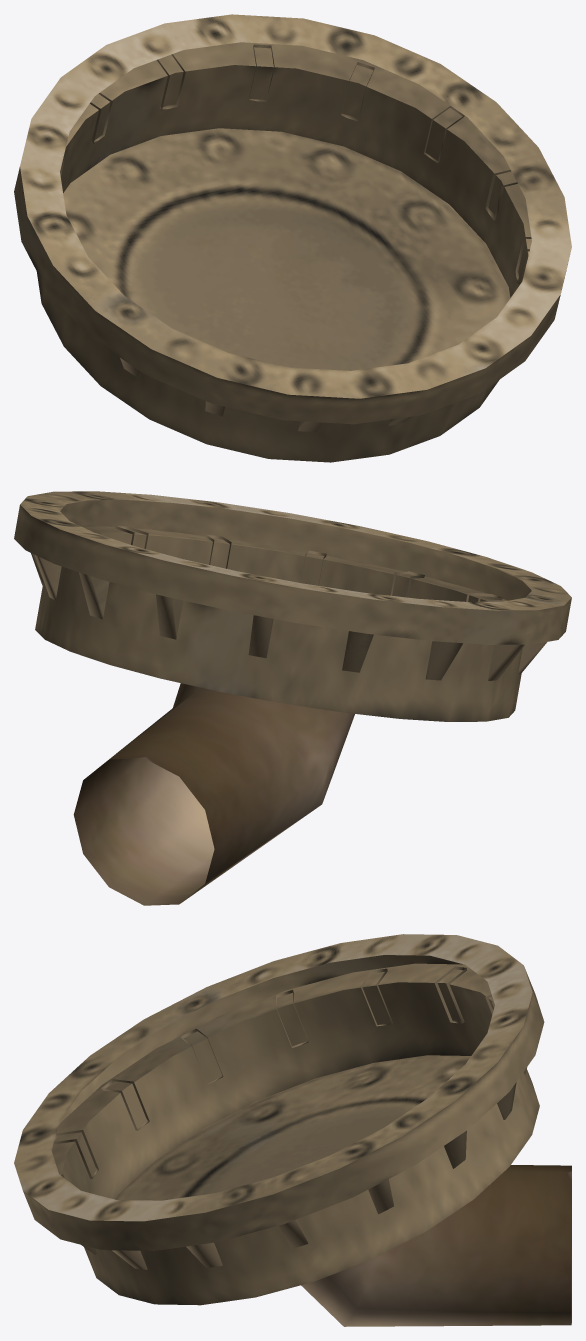
Rendered from Body_SteerLeftFront.dae.
3 views of the same model, one above another, from view 1: azimuth 30°, elevation 25°; view 2: azimuth 150°, elevation 25°; view 3: azimuth 270°, elevation 25° (orthographic).
Visible parts, largest first — view 1: suspension_right_front_axl; view 2: suspension_right_front_axl; view 3: suspension_right_front_axl.
Boxes of the visible parts, bbox=[...] form: suspension_right_front_axl: bbox=[14, 14, 571, 462]; suspension_right_front_axl: bbox=[14, 491, 571, 905]; suspension_right_front_axl: bbox=[14, 934, 571, 1326].
Bounding box in the file's own units: 0.1257 × 0.1272 × 0.0818.
1 material, 1 textured.
